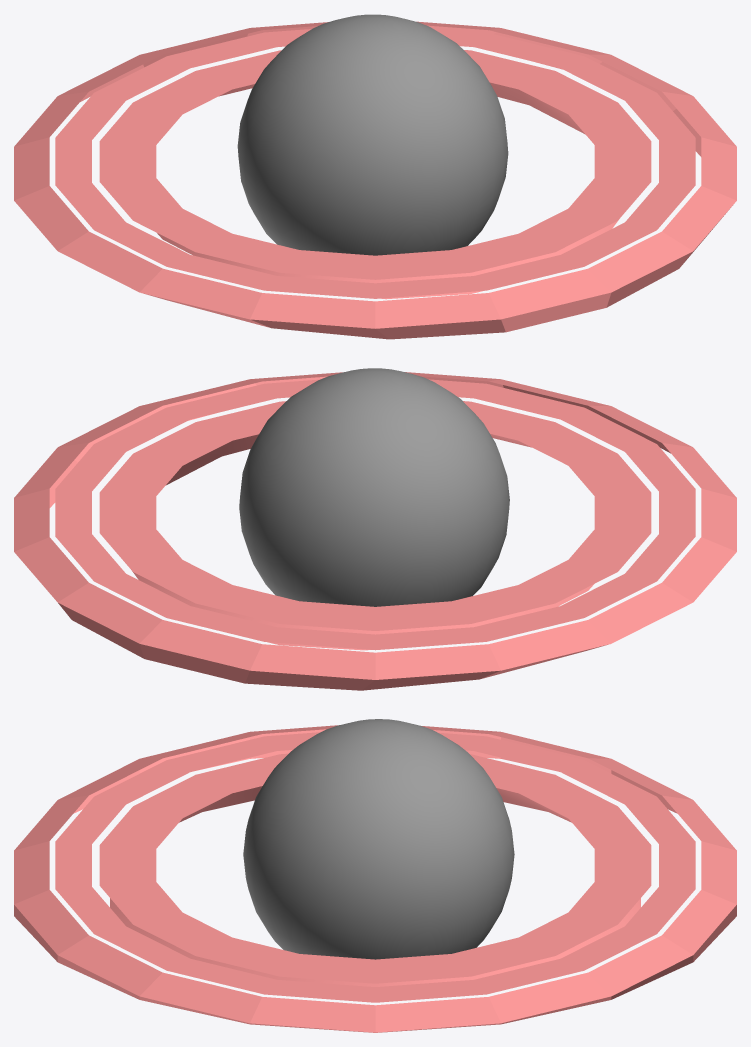
File: Planet.FBX
3 renders of one model, top to bottom at view 1: azimuth 30°, elevation 25°; view 2: azimuth 150°, elevation 25°; view 3: azimuth 270°, elevation 25°, orthographic.
Visible parts, largest first — view 1: Level02; view 2: Level02; view 3: Level02.
Boxes of the visible parts, <box> form: Level02: <box>14,14,736,339</box>; Level02: <box>14,368,736,690</box>; Level02: <box>14,719,736,1032</box>.
Bounding box in the file's own units: 376 × 139 × 371.
